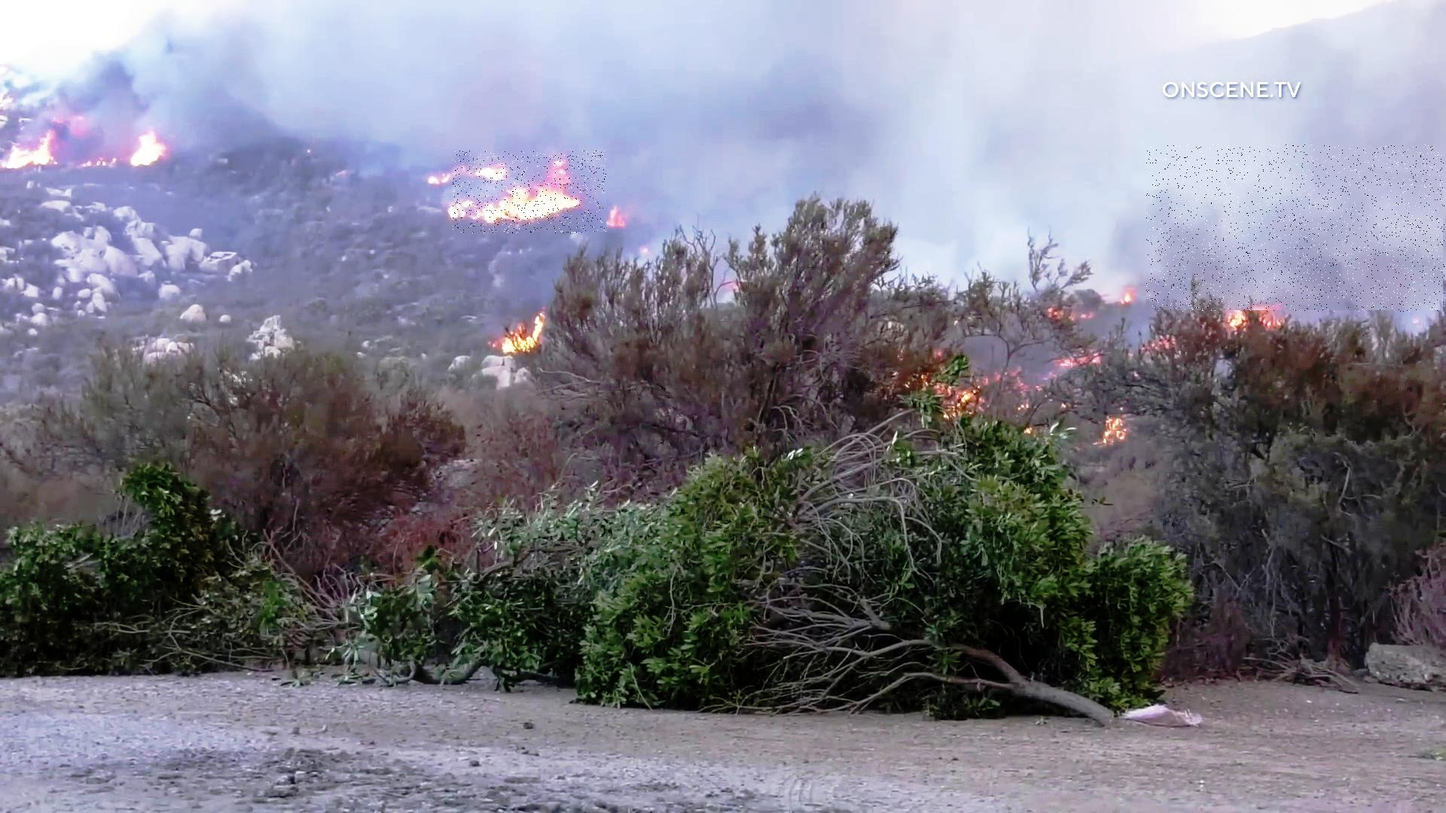fire: (453, 151, 606, 234)
smoke: (1147, 145, 1445, 312)
